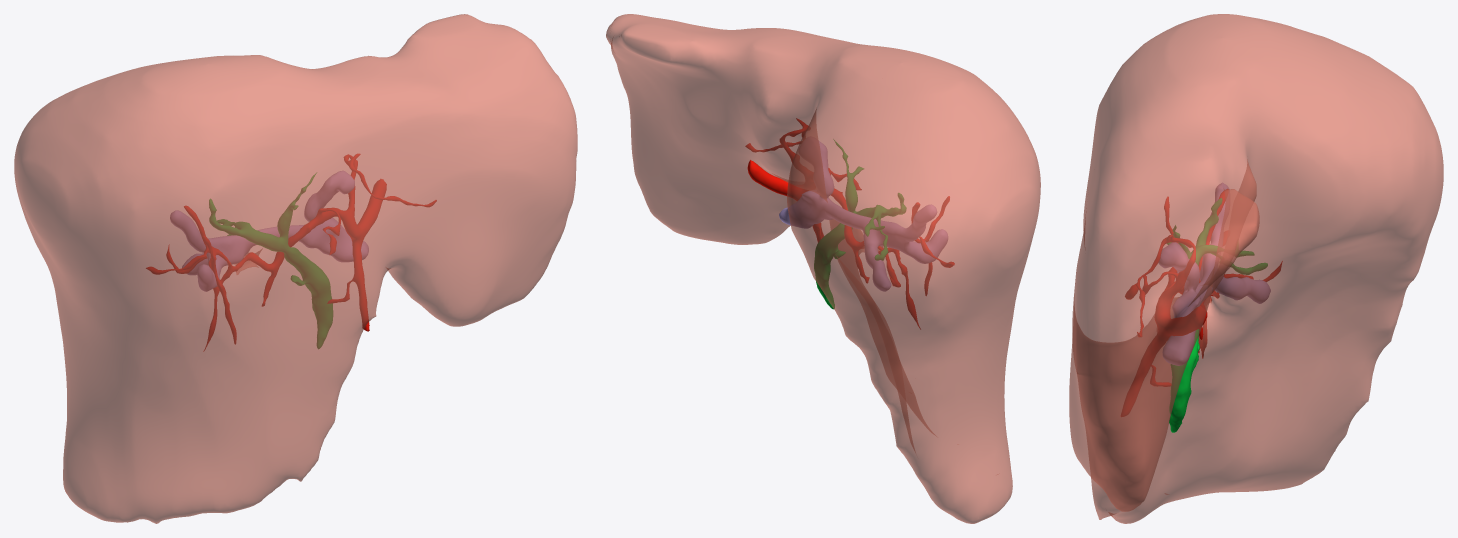
Rendered from LDLT_D_fusion.glb.
3 views of the same model, side by side, from view 1: azimuth 30°, elevation 25°; view 2: azimuth 150°, elevation 25°; view 3: azimuth 270°, elevation 25° (orthographic). The views are drawn at different scales.
Parts seen in each view (by area): view 1: Liver, HA, PV, BD; view 2: Liver, PV, HA, BD; view 3: Liver, HA, PV, BD.
Boxes of the visible parts, bbox=[...] form: Liver: bbox=[14, 14, 577, 523]; HA: bbox=[146, 154, 436, 350]; PV: bbox=[170, 171, 368, 291]; BD: bbox=[209, 173, 332, 348]; Liver: bbox=[606, 14, 1040, 523]; PV: bbox=[779, 141, 947, 291]; HA: bbox=[745, 118, 954, 328]; BD: bbox=[814, 140, 906, 309]; Liver: bbox=[1069, 14, 1443, 523]; HA: bbox=[1121, 189, 1282, 416]; PV: bbox=[1158, 183, 1270, 365]; BD: bbox=[1167, 198, 1267, 432].
Size of the model in its own units: 208 by 180 by 121.
